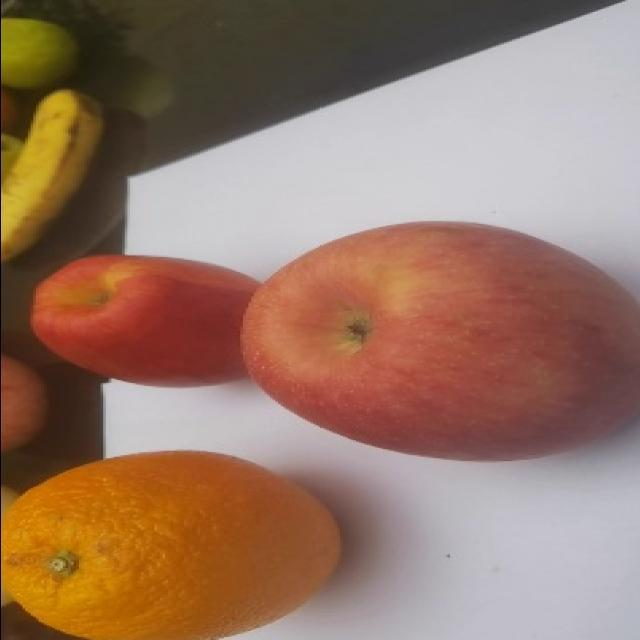Apple: (237, 217, 640, 461), (31, 249, 289, 390), (0, 351, 50, 443)
Banana: (0, 90, 112, 260)
Orange: (0, 448, 340, 640)
